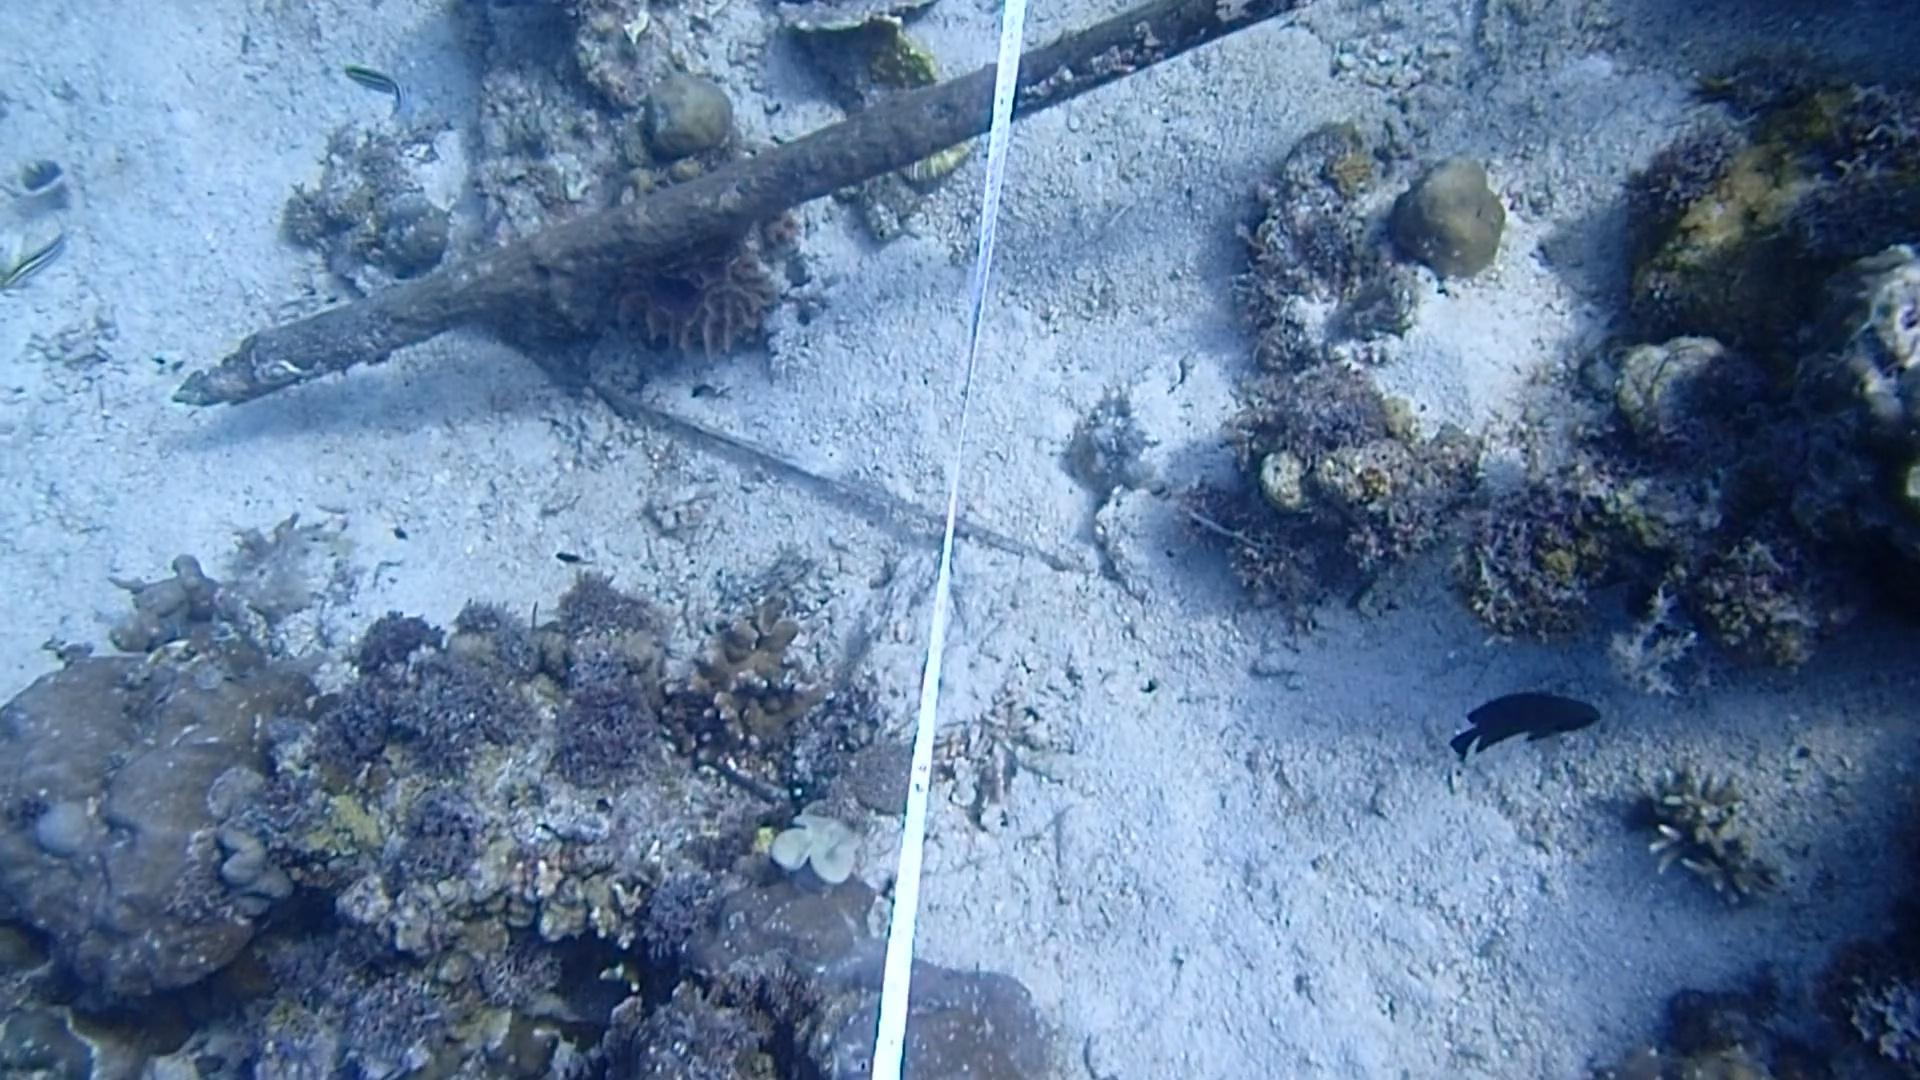Dark Fish: (1440, 675, 1613, 774)
Striped Fish: (0, 215, 83, 306), (348, 57, 422, 127)
